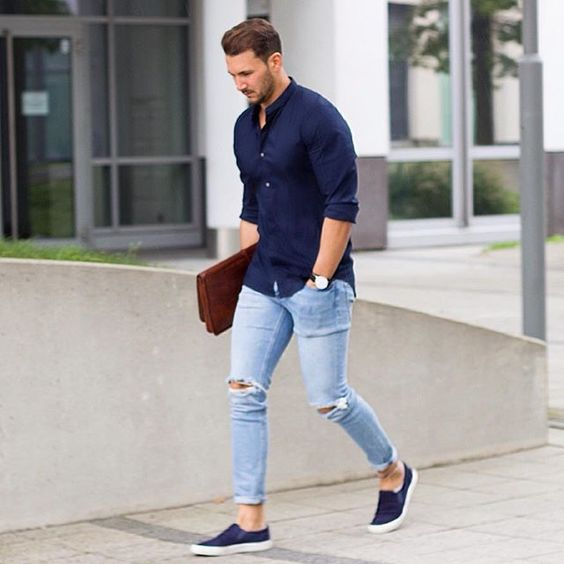NOTSAFE: (218, 13, 351, 286)
